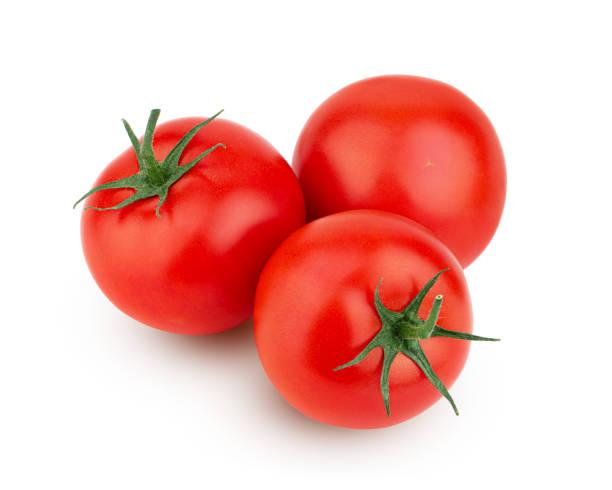Tomato: (75, 72, 507, 423)
